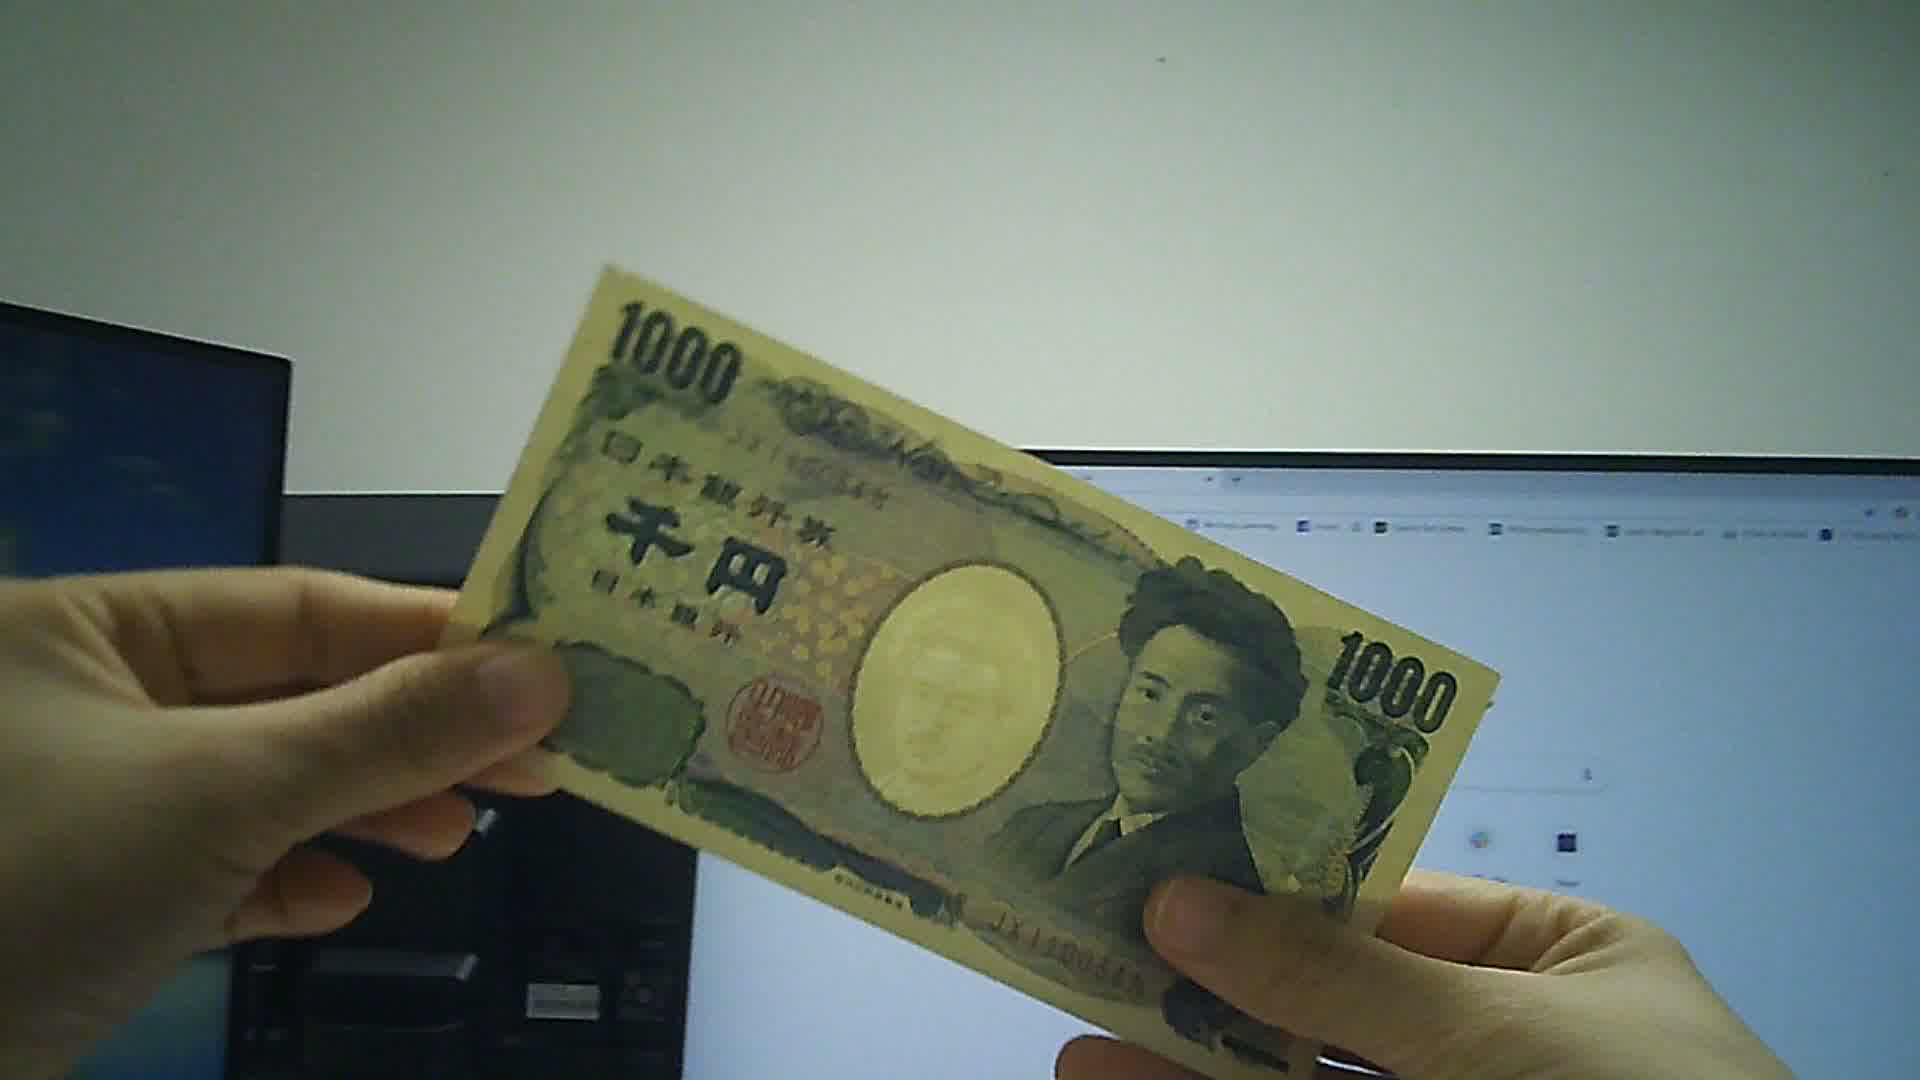1,000 Yen: (429, 245, 1501, 1069)
